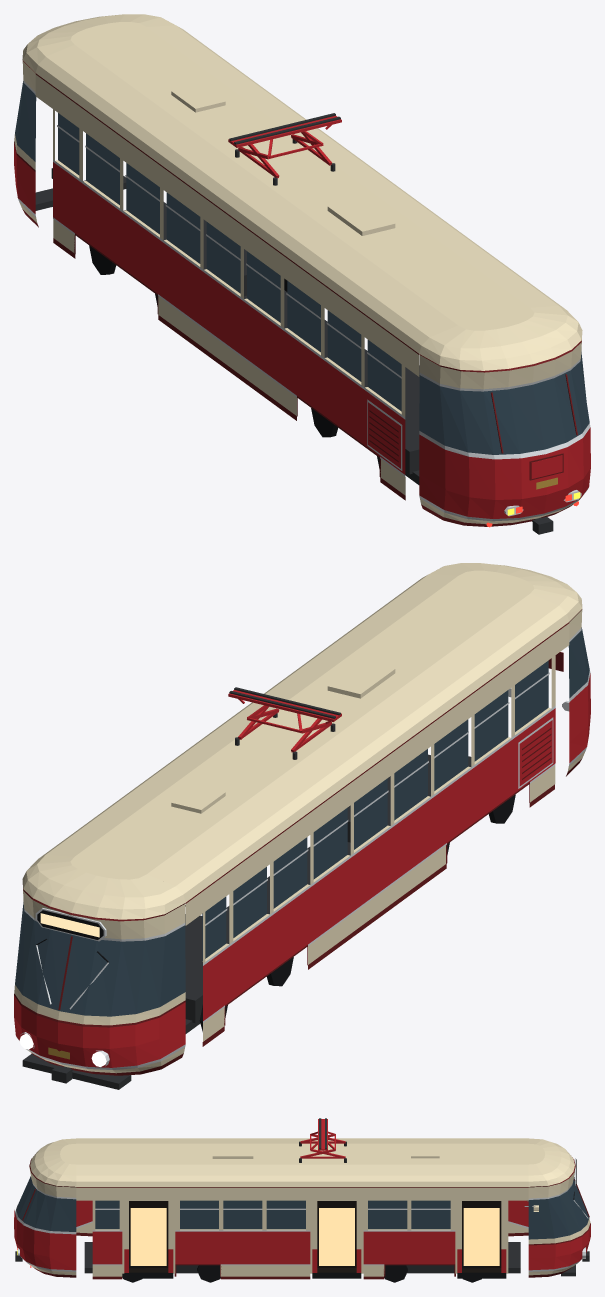
The model's file is t3-open.glb.
3 renders of one model, top to bottom at view 1: azimuth 30°, elevation 25°; view 2: azimuth 150°, elevation 25°; view 3: azimuth 270°, elevation 25°, orthographic. The views are drawn at different scales.
Parts seen in each view (by area): view 1: t3-open; view 2: t3-open; view 3: t3-open.
Part boxes in pixels (bbox=[...]): t3-open: bbox=[14, 14, 590, 534]; t3-open: bbox=[14, 563, 590, 1089]; t3-open: bbox=[14, 1118, 590, 1282].
Bounding box in the file's own units: 2.55 × 3.58 × 14.1.
